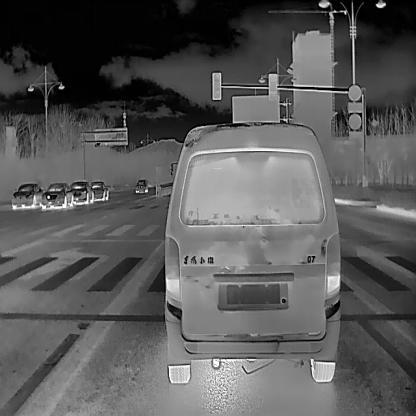car: (165, 121, 340, 384), (11, 178, 42, 207), (42, 181, 72, 208), (70, 179, 94, 203), (92, 180, 109, 198), (134, 177, 147, 192)
